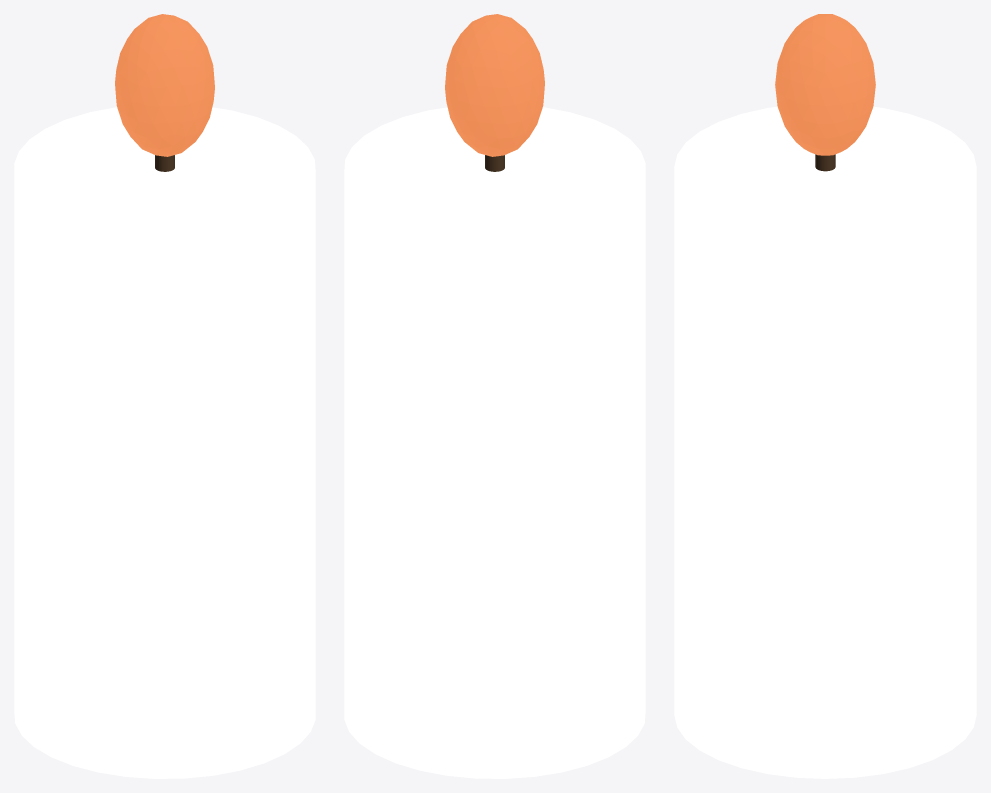
The picture shows the model from 3 angles, left to right: view 1: azimuth 30°, elevation 25°; view 2: azimuth 150°, elevation 25°; view 3: azimuth 270°, elevation 25°; orthographic projection.
Visible parts, largest first — view 1: Candle_Body, Flame; view 2: Candle_Body, Flame; view 3: Candle_Body, Flame.
Part boxes in pixels (x1=…): Candle_Body: x1=14, y1=107, x2=315, y2=778; Flame: x1=115, y1=14, x2=214, y2=156; Candle_Body: x1=344, y1=107, x2=645, y2=778; Flame: x1=445, y1=14, x2=544, y2=156; Candle_Body: x1=674, y1=106, x2=976, y2=778; Flame: x1=775, y1=14, x2=875, y2=155.
Size of what is drawn, in the model's own units: 0.3 by 0.765 by 0.3.
